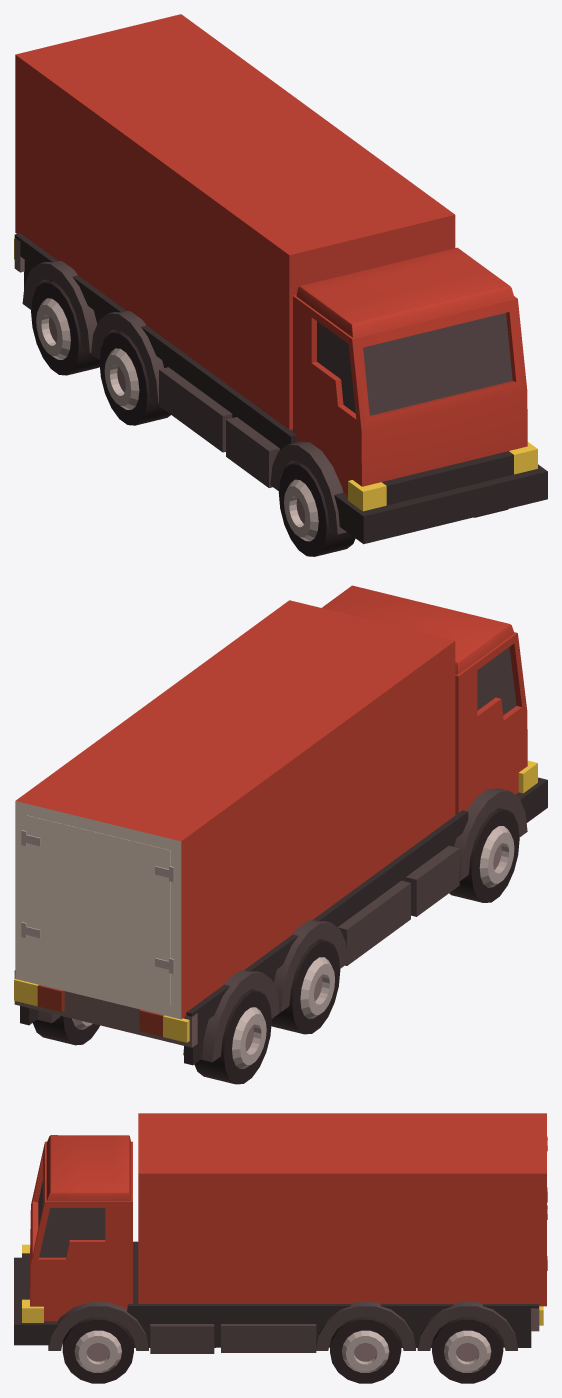
Rendered from Truck.fbx.
The picture shows the model from 3 angles, top to bottom: view 1: azimuth 30°, elevation 25°; view 2: azimuth 150°, elevation 25°; view 3: azimuth 270°, elevation 25°; orthographic projection. The views are drawn at different scales.
Visible parts, largest first — view 1: Truck; view 2: Truck; view 3: Truck.
Boxes of the visible parts, x1,y1,x2,y2 form: Truck: (14, 14, 547, 556); Truck: (14, 585, 547, 1084); Truck: (14, 1113, 547, 1383).
Size of the model in its own units: 221 by 285 by 673.
